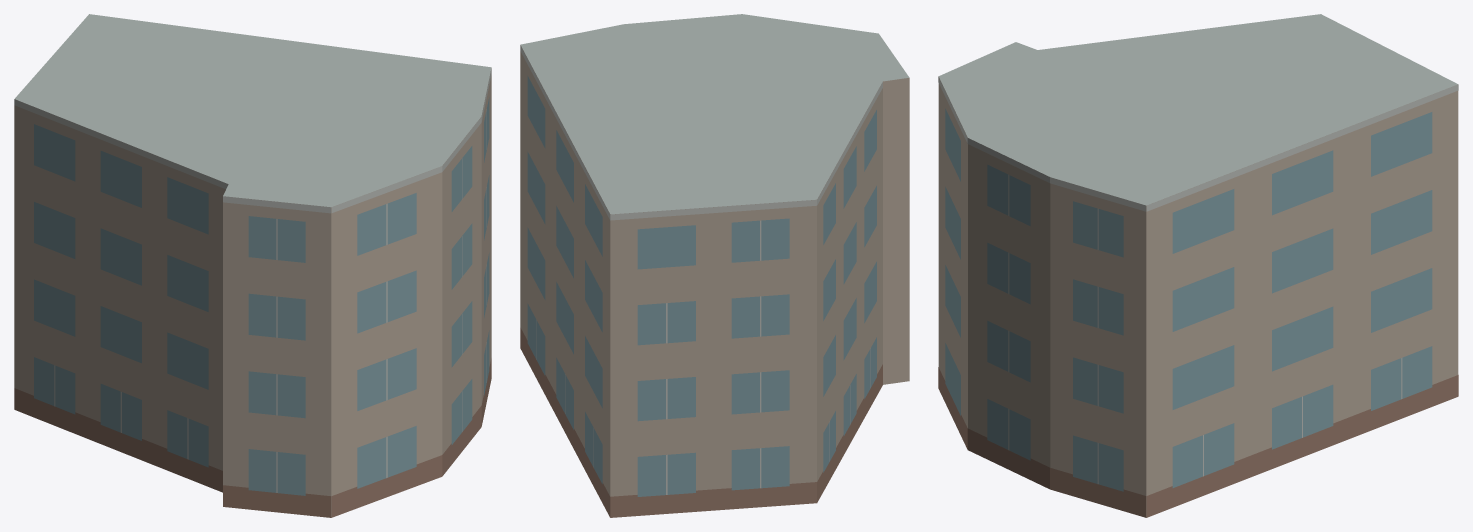
The model's file is residential-4b8e9f92-2131-4f52-9bf3-ed02a5853fa8.glb.
The picture shows the model from 3 angles, left to right: view 1: azimuth 30°, elevation 25°; view 2: azimuth 150°, elevation 25°; view 3: azimuth 270°, elevation 25°; orthographic projection. The views are drawn at different scales.
Parts seen in each view (by area): view 1: residential-4b8e9f92-2131-4f52-9bf3-ed02a5853fa8.tmp; view 2: residential-4b8e9f92-2131-4f52-9bf3-ed02a5853fa8.tmp; view 3: residential-4b8e9f92-2131-4f52-9bf3-ed02a5853fa8.tmp.
Boxes of the visible parts, x1,y1,x2,y2 form: residential-4b8e9f92-2131-4f52-9bf3-ed02a5853fa8.tmp: (14, 14, 491, 517); residential-4b8e9f92-2131-4f52-9bf3-ed02a5853fa8.tmp: (520, 14, 909, 517); residential-4b8e9f92-2131-4f52-9bf3-ed02a5853fa8.tmp: (938, 14, 1458, 517).
Size of the model in its own units: 16.06 by 12.2 by 18.41.
